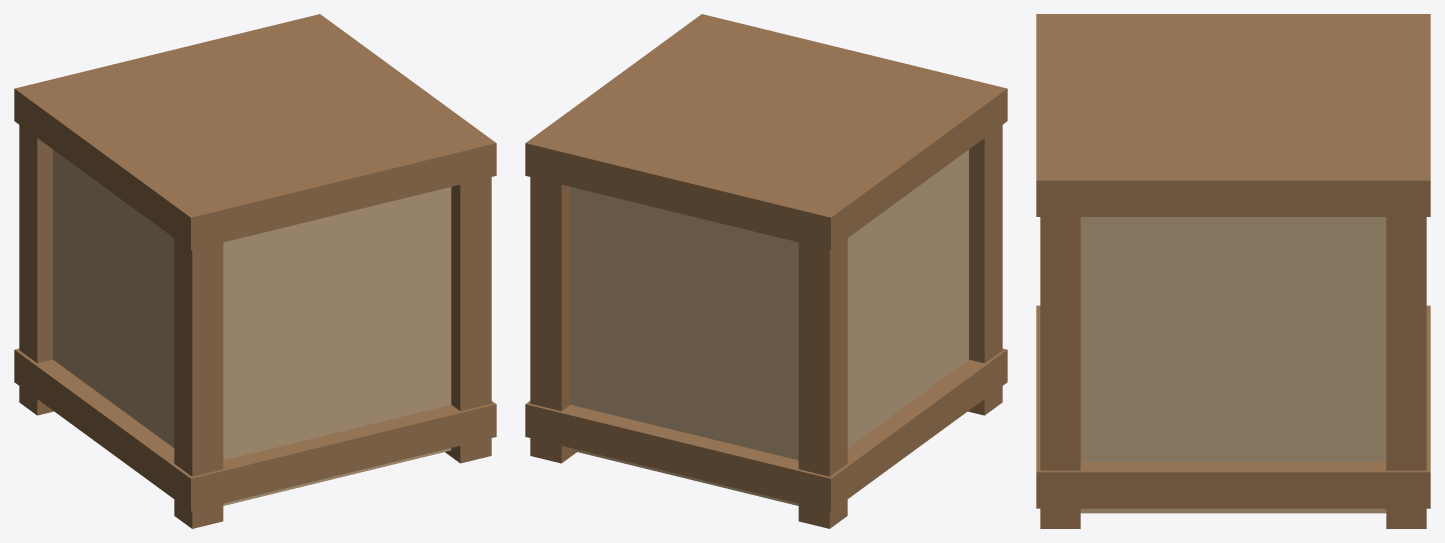
The model's file is ASTX_PROP_CRATE.glb.
3 views of the same model, side by side, from view 1: azimuth 30°, elevation 25°; view 2: azimuth 150°, elevation 25°; view 3: azimuth 270°, elevation 25° (orthographic). The views are drawn at different scales.
Parts seen in each view (by area): view 1: ASTX_PROP_CRATE_core, ASTX_PROP_CRATE_rim0.86, ASTX_PROP_CRATE_rim0.06, ASTX_PROP_CRATE_bat-0.430.43, ASTX_PROP_CRATE_bat0.430.43, ASTX_PROP_CRATE_bat-0.43-0.43; view 2: ASTX_PROP_CRATE_core, ASTX_PROP_CRATE_rim0.86, ASTX_PROP_CRATE_rim0.06, ASTX_PROP_CRATE_bat-0.43-0.43, ASTX_PROP_CRATE_bat0.43-0.43, ASTX_PROP_CRATE_bat-0.430.43; view 3: ASTX_PROP_CRATE_rim0.86, ASTX_PROP_CRATE_core, ASTX_PROP_CRATE_rim0.06, ASTX_PROP_CRATE_bat0.43-0.43, ASTX_PROP_CRATE_bat0.430.43.
Part boxes in pixels (bbox=[...]): ASTX_PROP_CRATE_core: bbox=[53, 149, 451, 505]; ASTX_PROP_CRATE_rim0.86: bbox=[14, 14, 496, 250]; ASTX_PROP_CRATE_rim0.06: bbox=[14, 348, 496, 511]; ASTX_PROP_CRATE_bat-0.430.43: bbox=[174, 238, 223, 528]; ASTX_PROP_CRATE_bat0.430.43: bbox=[445, 177, 491, 463]; ASTX_PROP_CRATE_bat-0.43-0.43: bbox=[19, 125, 53, 415]; ASTX_PROP_CRATE_core: bbox=[570, 149, 968, 505]; ASTX_PROP_CRATE_rim0.86: bbox=[525, 14, 1007, 250]; ASTX_PROP_CRATE_rim0.06: bbox=[525, 348, 1007, 511]; ASTX_PROP_CRATE_bat-0.43-0.43: bbox=[798, 238, 847, 528]; ASTX_PROP_CRATE_bat0.43-0.43: bbox=[530, 177, 576, 463]; ASTX_PROP_CRATE_bat-0.430.43: bbox=[968, 125, 1002, 415]; ASTX_PROP_CRATE_rim0.86: bbox=[1036, 14, 1430, 216]; ASTX_PROP_CRATE_core: bbox=[1080, 217, 1386, 513]; ASTX_PROP_CRATE_rim0.06: bbox=[1036, 305, 1430, 508]; ASTX_PROP_CRATE_bat0.43-0.43: bbox=[1386, 217, 1426, 528]; ASTX_PROP_CRATE_bat0.430.43: bbox=[1040, 217, 1080, 528].
Bounding box in the file's own units: 0.98 × 0.96 × 0.98.
